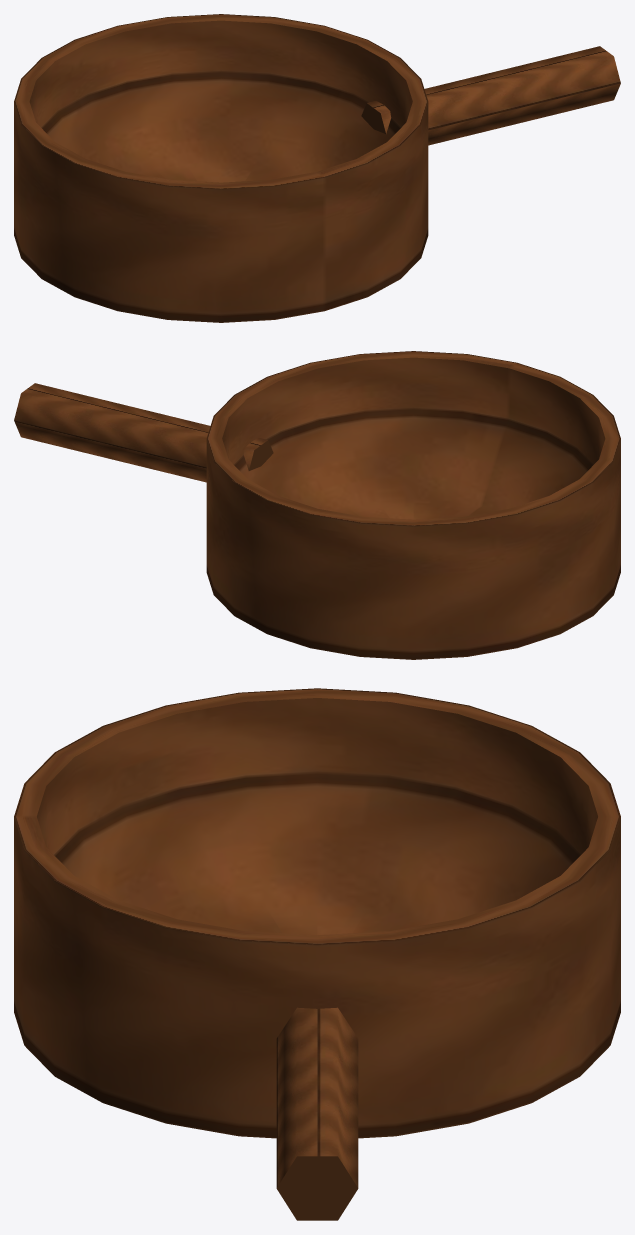
The model's file is creature-husbandry-and-transport-feed-scoop-124a99e7__24000.glb.
3 renders of one model, top to bottom at view 1: azimuth 30°, elevation 25°; view 2: azimuth 150°, elevation 25°; view 3: azimuth 270°, elevation 25°, orthographic. The views are drawn at different scales.
Visible parts, largest first — view 1: feed-scoop; view 2: feed-scoop; view 3: feed-scoop.
Part boxes in pixels (x1=…): feed-scoop: x1=14, y1=14, x2=620, y2=322; feed-scoop: x1=14, y1=351, x2=620, y2=659; feed-scoop: x1=14, y1=688, x2=620, y2=1220.
Size of the model in its own units: 0.63 by 0.15 by 0.4.
1 material, 1 textured.
